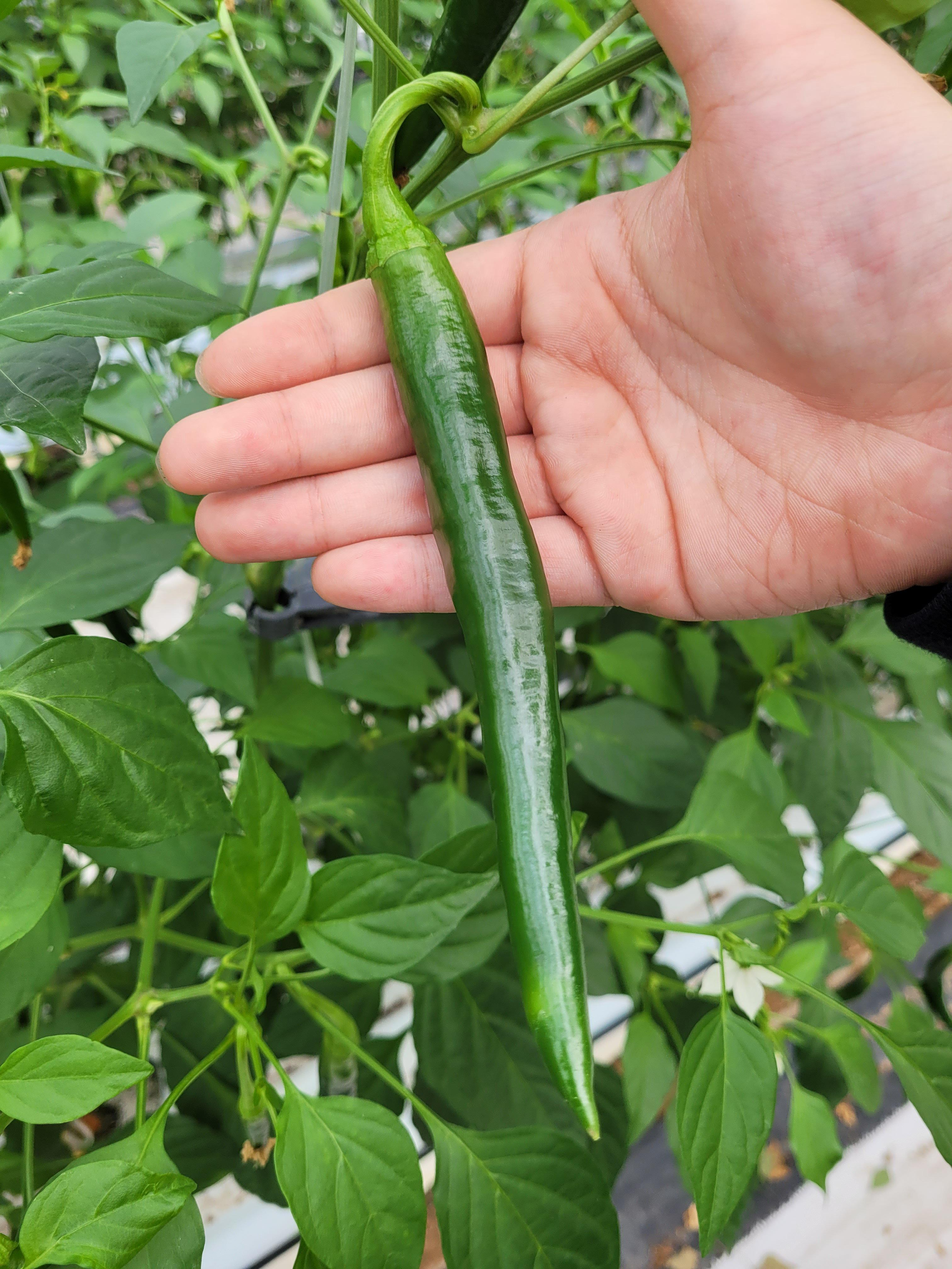Buah Cabai Sehat: (355, 201, 603, 1140)
Daun Cabai Sehat: (0, 629, 244, 846), (432, 1125, 630, 1269), (273, 1086, 428, 1269), (672, 1007, 780, 1259), (293, 853, 501, 983), (207, 721, 313, 948), (0, 253, 252, 348), (0, 1032, 156, 1122)
